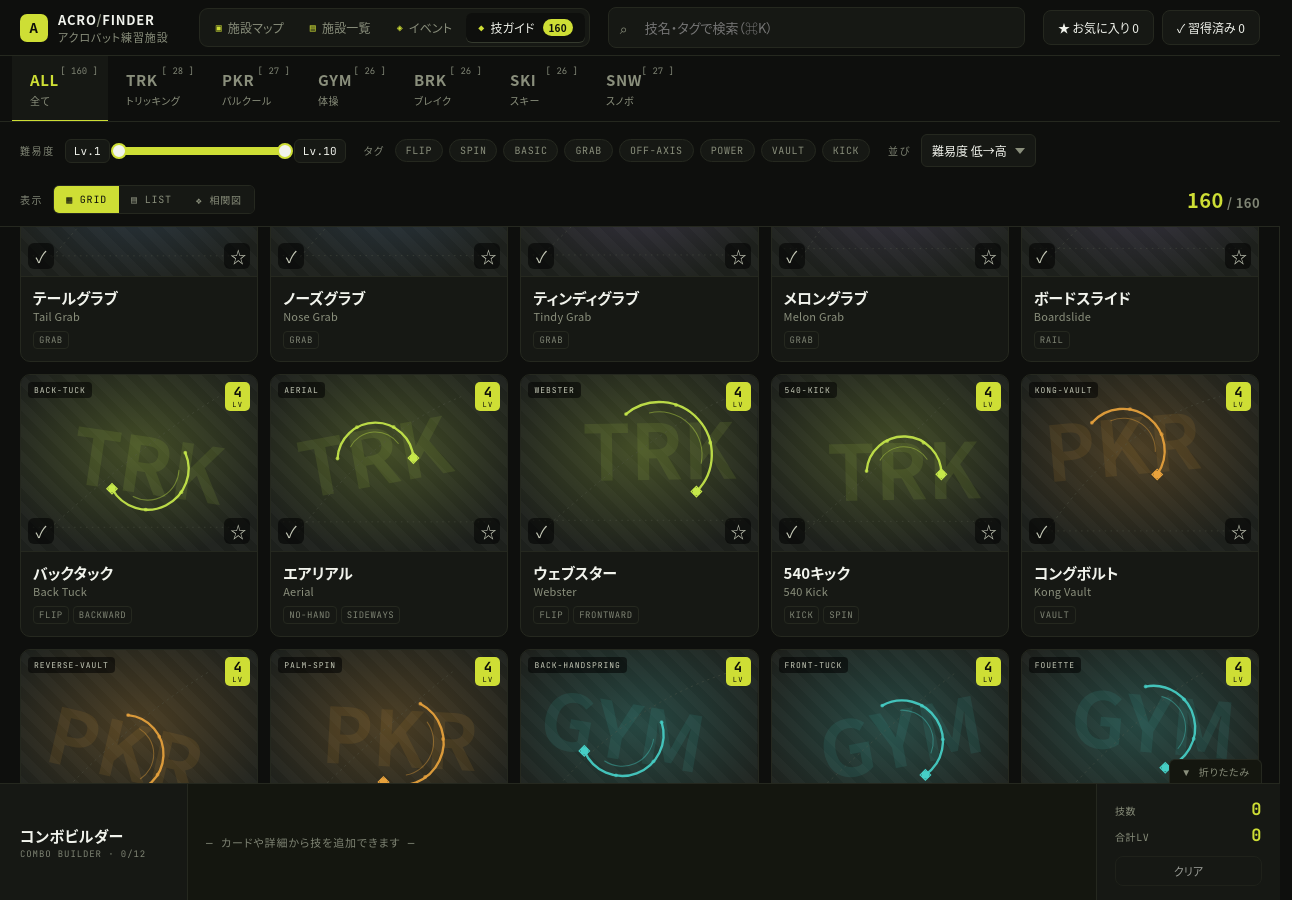
it: SkillsApp › detail panel › closes with the ✕ button and with Escape
This screenshot has width=1292, height=900.
(page scrolled)
Click the element with class "skl-card" that starts with "TRK": click(139, 505) [20, 374, 258, 637]
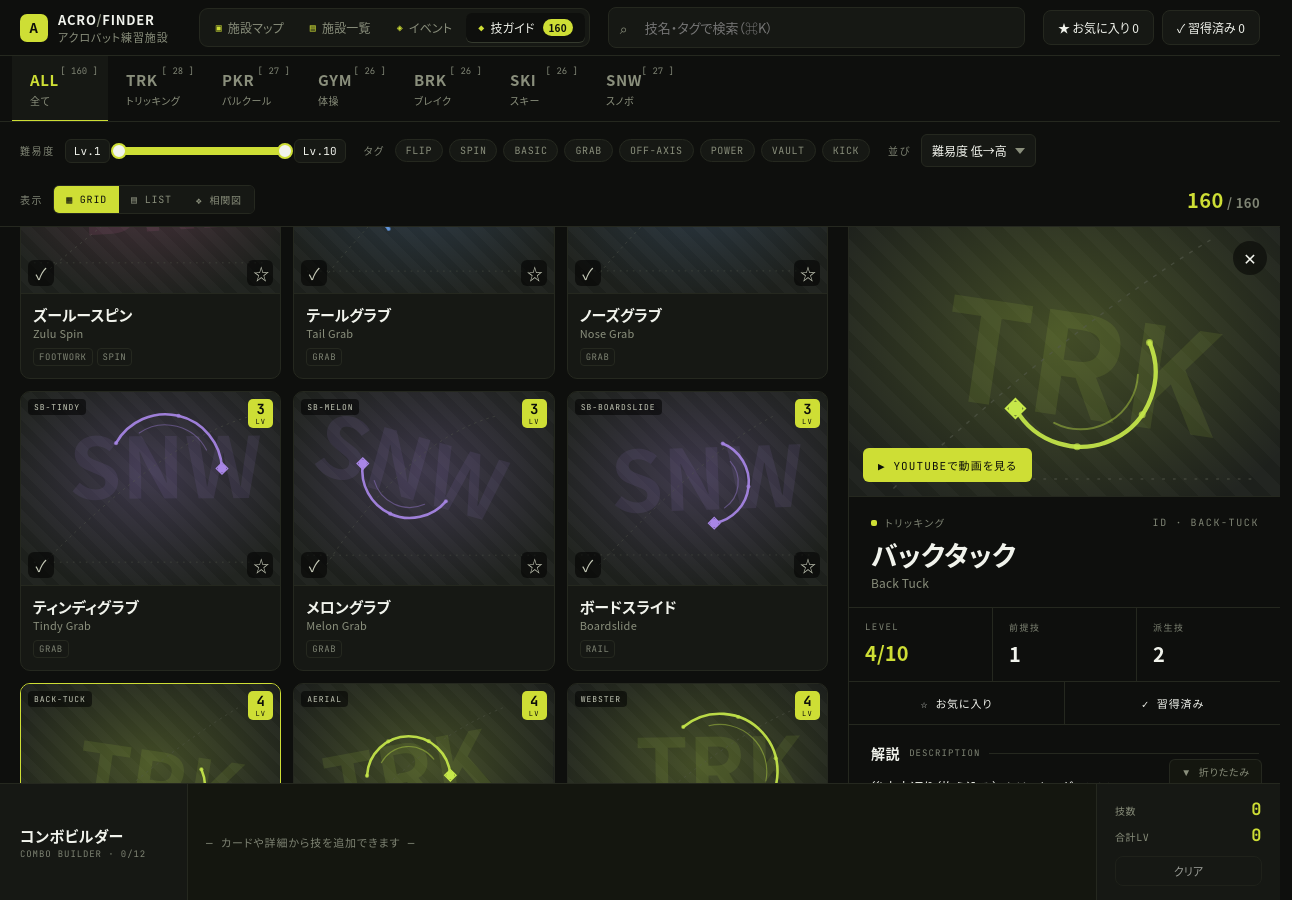
Click the button named "閉じる": click(1250, 258) [1233, 241, 1267, 275]
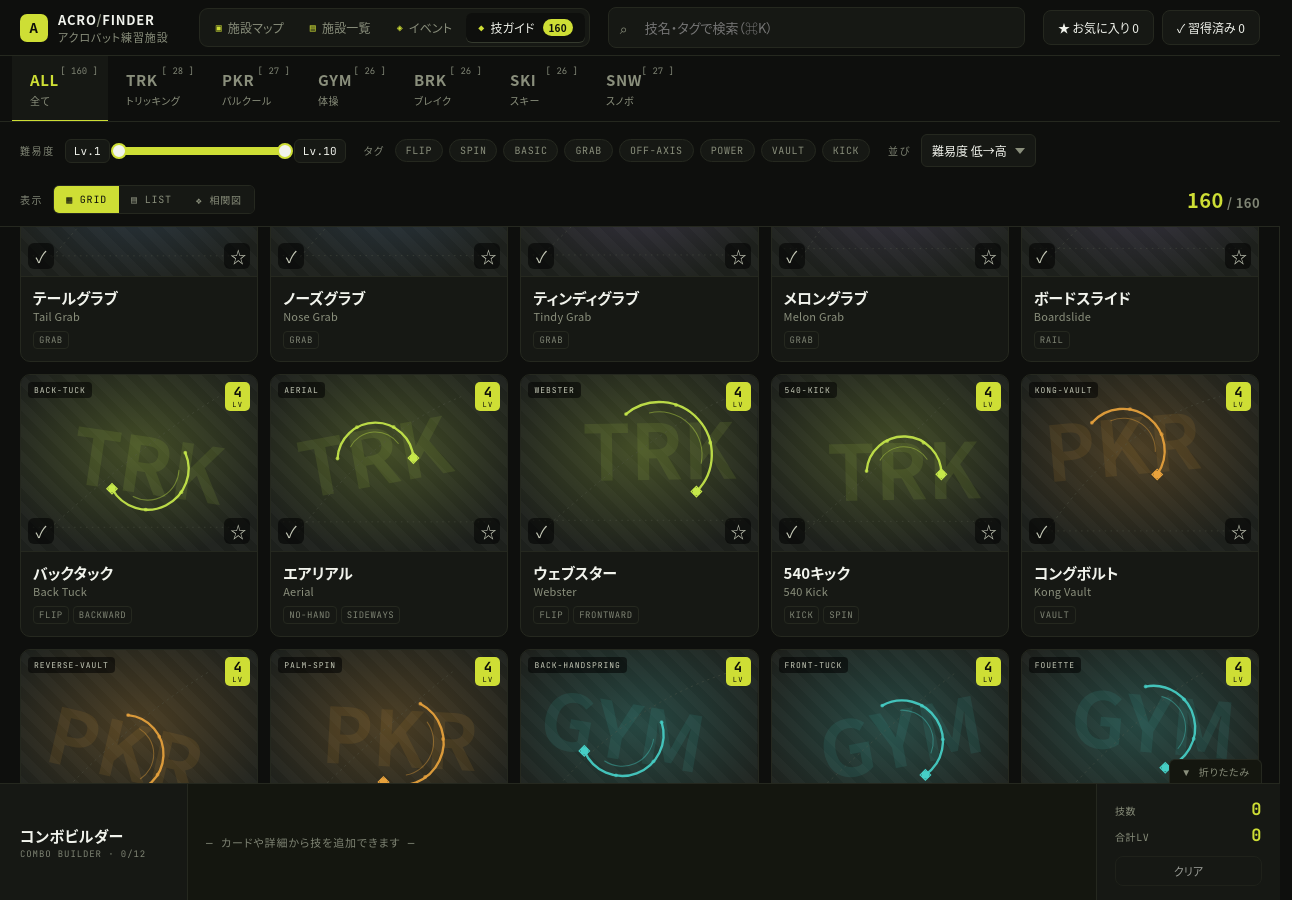
Check: the element with class "open" is gone
Click the element with class "skl-card" that starts with "TRK": click(139, 505) [20, 374, 258, 637]
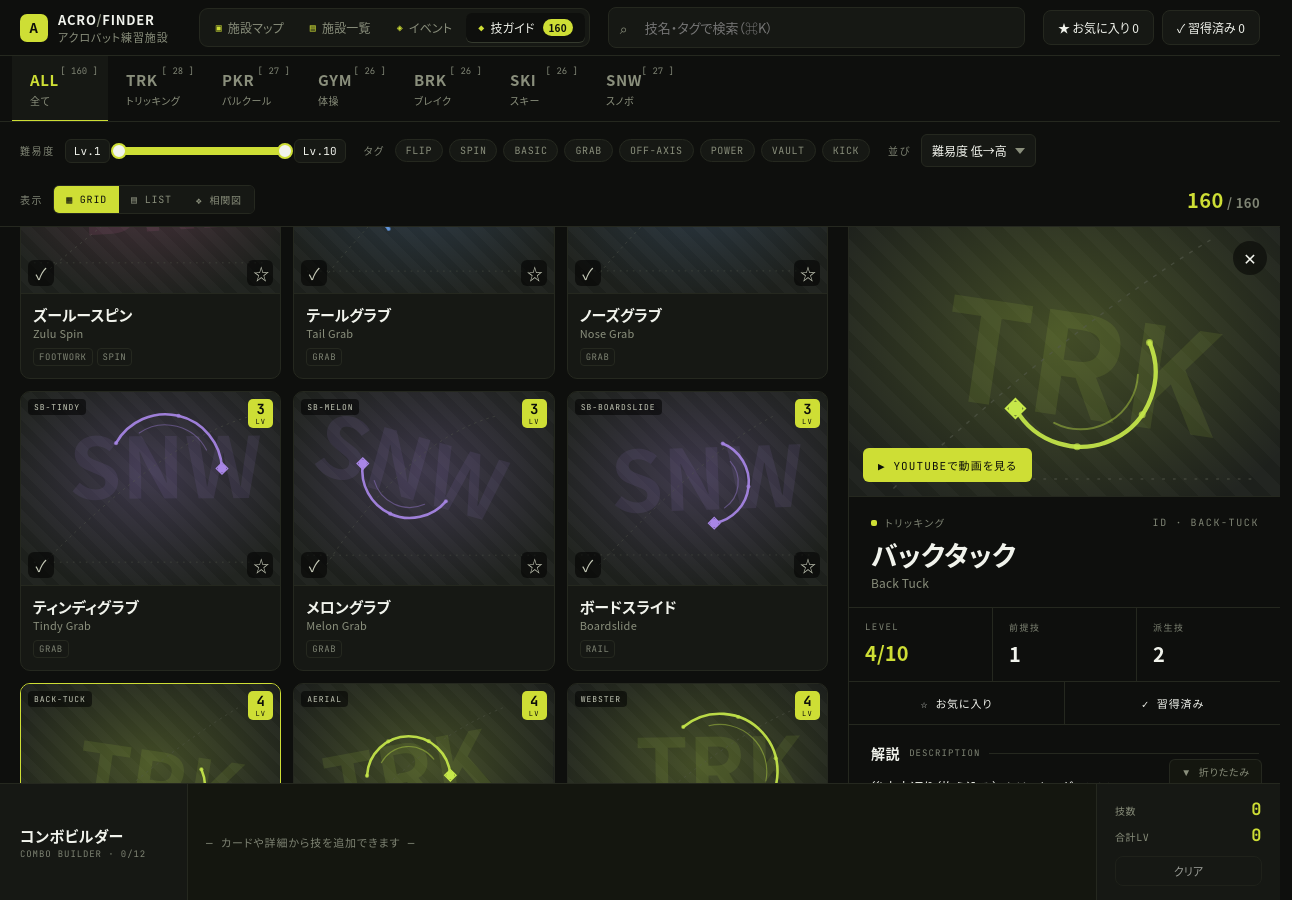
Press Escape
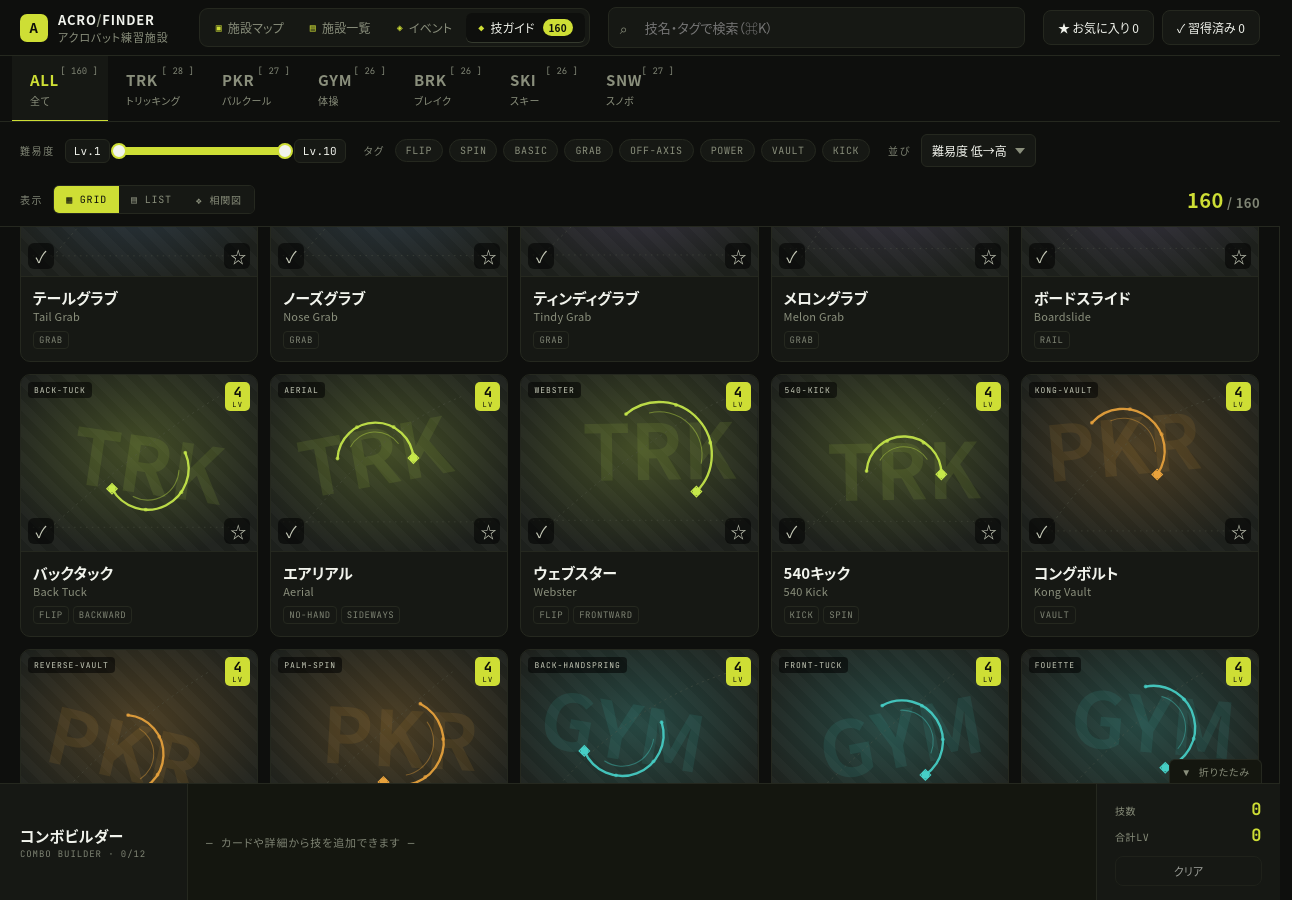
Check: the element with class "open" is gone
